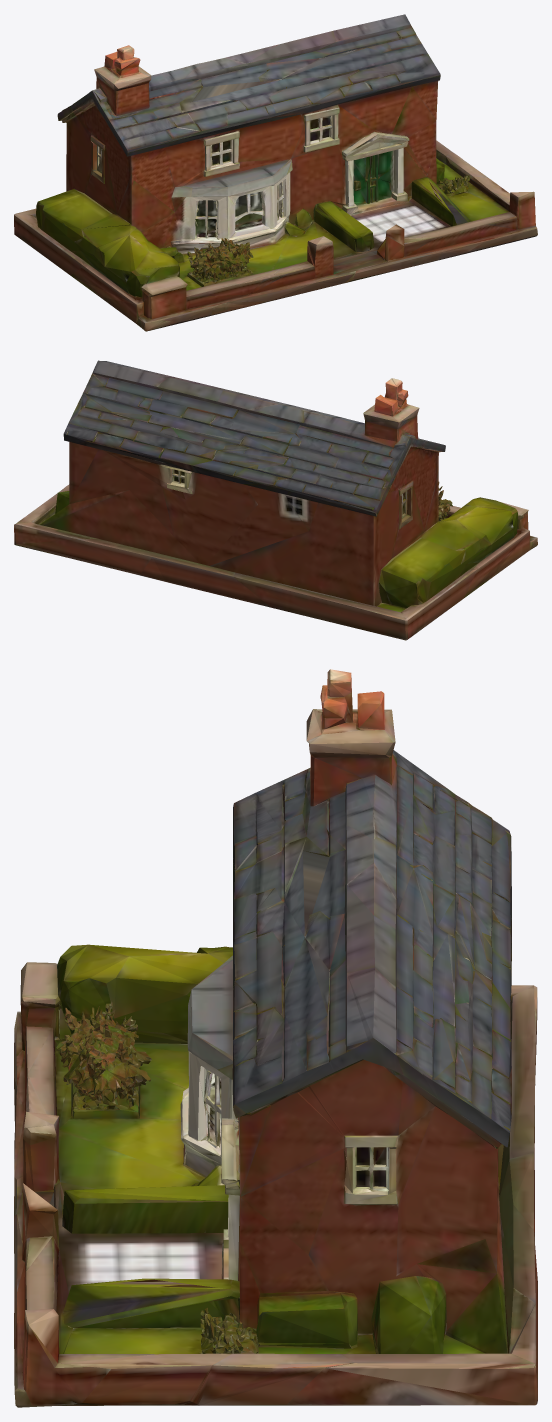
Rendered from town_townhouse_garden_2.glb.
3 views of the same model, one above another, from view 1: azimuth 30°, elevation 25°; view 2: azimuth 150°, elevation 25°; view 3: azimuth 270°, elevation 25° (orthographic). The views are drawn at different scales.
Visible parts, largest first — view 1: normalize; view 2: normalize; view 3: normalize.
Boxes of the visible parts, <box> form: normalize: <box>14,14,537,331</box>; normalize: <box>14,360,537,640</box>; normalize: <box>14,669,537,1407</box>.
Size of the model in its own units: 1 by 0.5117 by 0.5811.
Materials: 1 (1 with a texture image).
